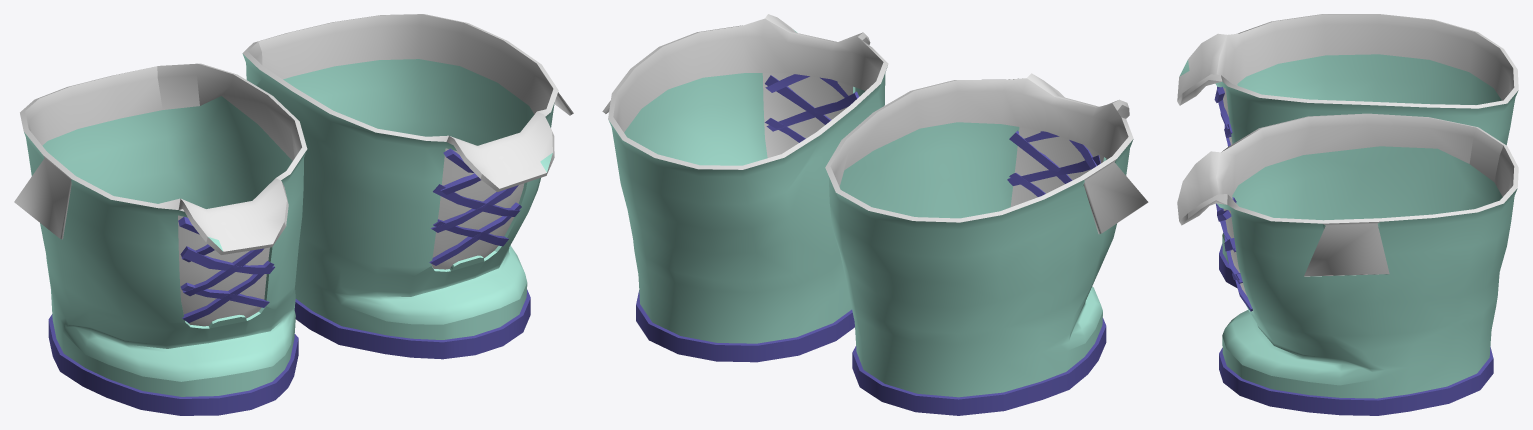
Rendered from Boots04_sidelace.fbx.
The picture shows the model from 3 angles, left to right: view 1: azimuth 30°, elevation 25°; view 2: azimuth 150°, elevation 25°; view 3: azimuth 270°, elevation 25°; orthographic projection. The views are drawn at different scales.
Visible parts, largest first — view 1: Boots_sidelace_front; view 2: Boots_sidelace_front; view 3: Boots_sidelace_front.
Boxes of the visible parts, bbox=[...] form: Boots_sidelace_front: bbox=[14, 14, 573, 415]; Boots_sidelace_front: bbox=[602, 14, 1148, 415]; Boots_sidelace_front: bbox=[1177, 14, 1518, 415].
Size of the model in its own units: 114 by 49.28 by 71.62.
